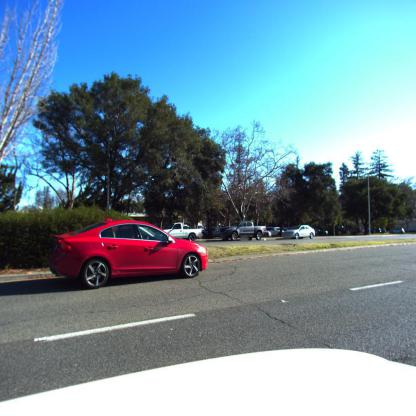car: (49, 220, 211, 288), (165, 223, 204, 241), (202, 226, 240, 242), (234, 223, 264, 241), (288, 226, 315, 240), (262, 226, 280, 236)
